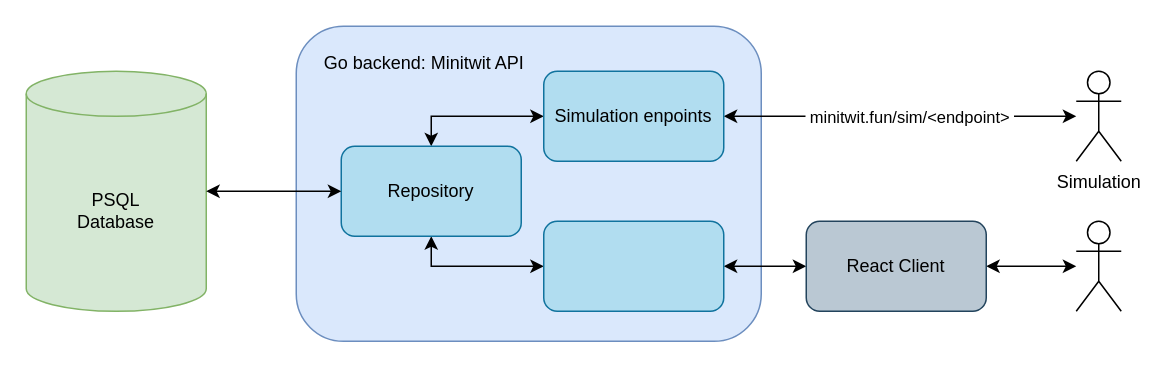
The diagram is 1167 pixels wide and 392 high, and some of its shapes have lost their labels. Here are the shapes that lost their labels. From the top down, the centre of each, then its label:
At point 633,265: "Client endpoints".
At point 1098,265: "User".
